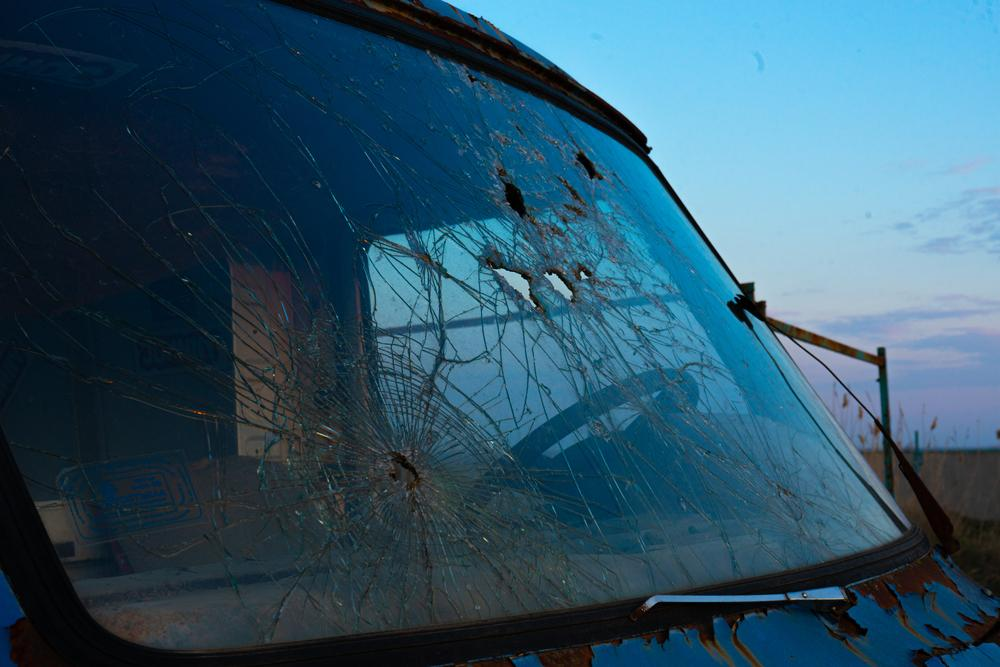glass shatter: (0, 0, 915, 654)
